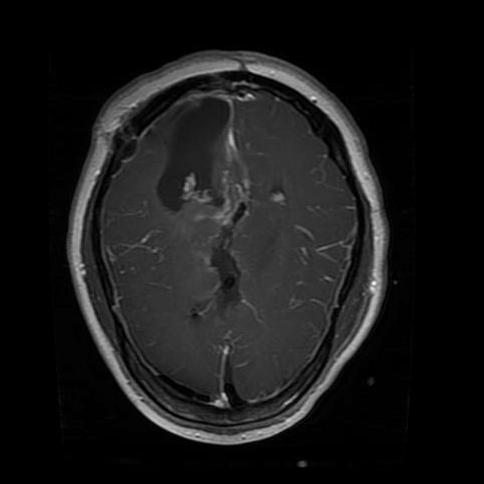Tumour-Glioma: (155, 96, 239, 217)
